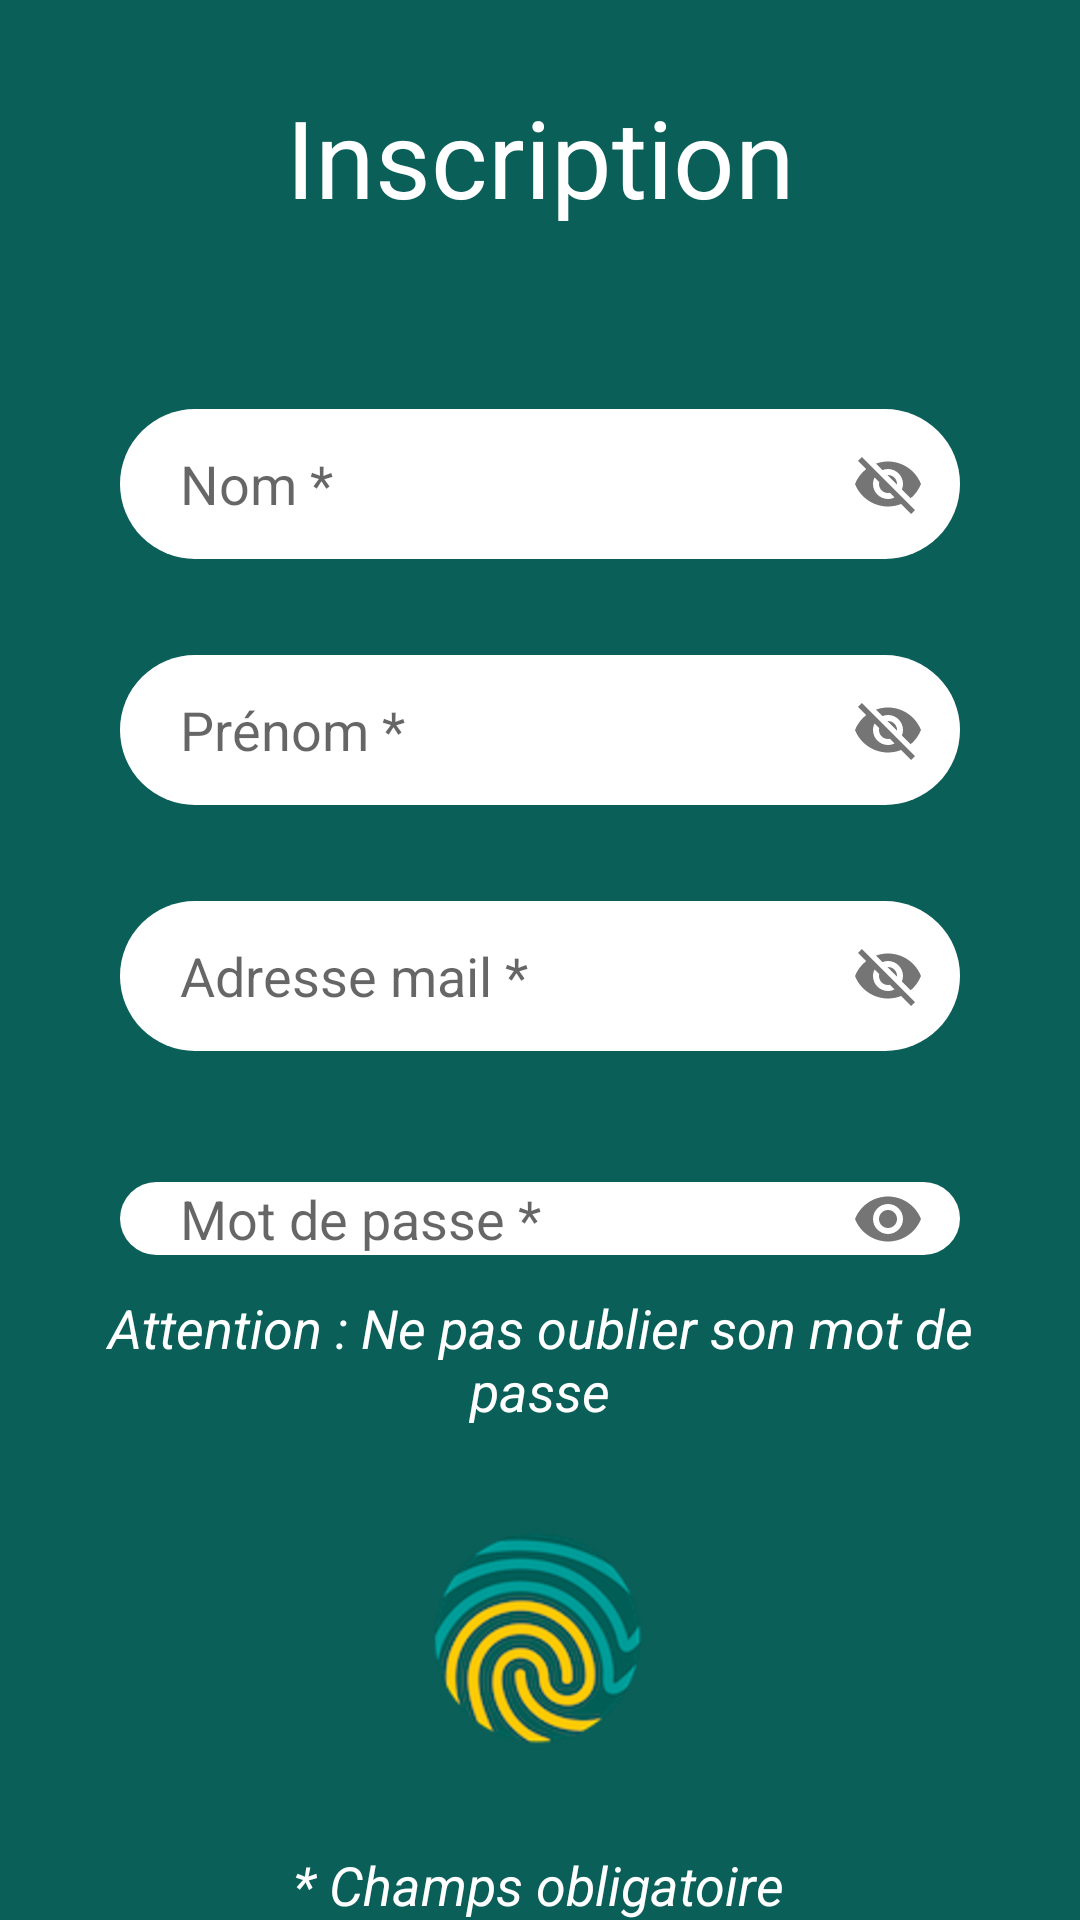

Icon bounding boxes for this 1080 x 1920 phone screenshot, format region(x1, y1, x2, y2):
empreinte: region(435, 1540, 640, 1743)
